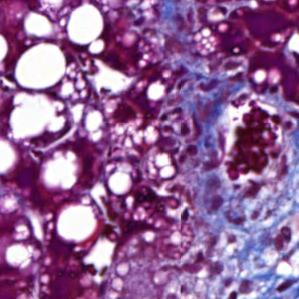inflammation: (154, 106, 195, 137)
